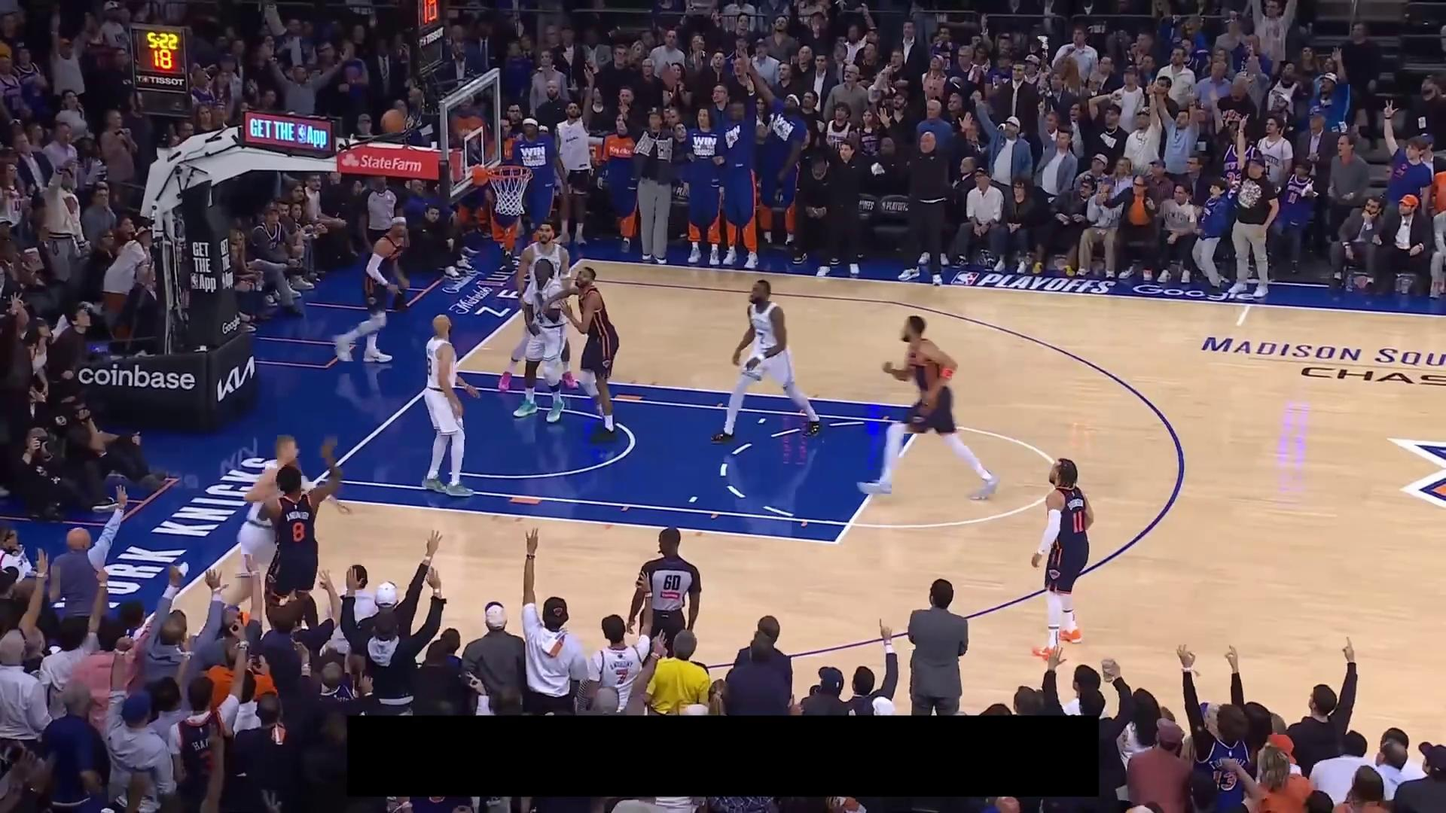ball: (382, 109, 408, 136)
number: (1070, 511, 1087, 534), (290, 521, 306, 544), (756, 330, 766, 345)
player: (854, 313, 1002, 498), (707, 277, 825, 446), (255, 436, 348, 632), (215, 435, 314, 618), (540, 263, 622, 444), (496, 215, 579, 393), (1028, 454, 1098, 663), (329, 212, 411, 368), (422, 310, 483, 497), (511, 256, 569, 422)
referee: (626, 524, 708, 652), (352, 176, 410, 289)
rim: (488, 161, 536, 182)
